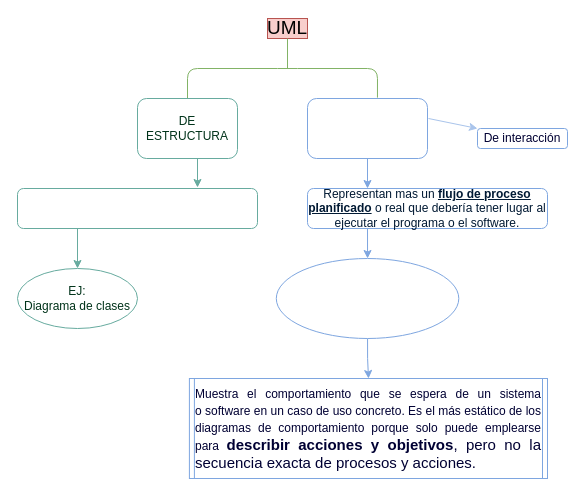
Image size: 585x496. Some labels were removed from this diagram. The shapes that lost their labels are listed below. From the top down, each one's centre as x and y in pixels, then its label:
(x=367, y=128): DE COMPORTAMIENTO
(x=137, y=208): Se centran en representar los elementos de un sistema y sus relaciones entre sí.
(x=367, y=298): EJ: Diagrama de Casos de uso
